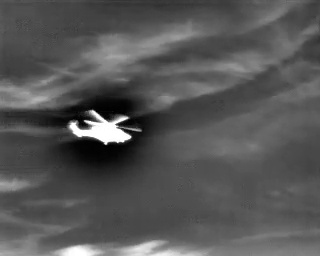HELICOPTER: (64, 105, 146, 153)
